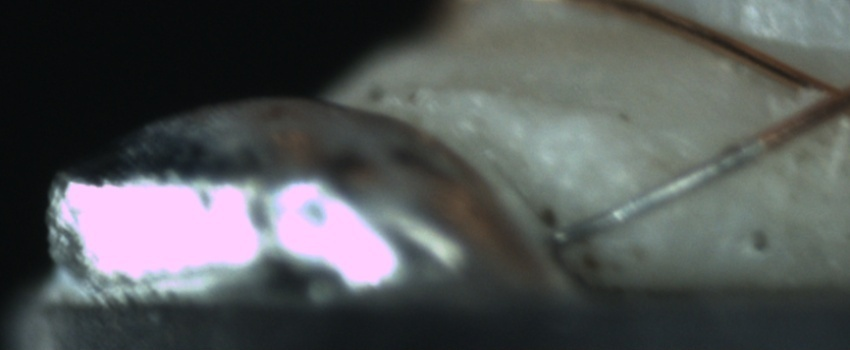CL: (796, 64, 850, 132)
TS: (555, 134, 768, 246)
